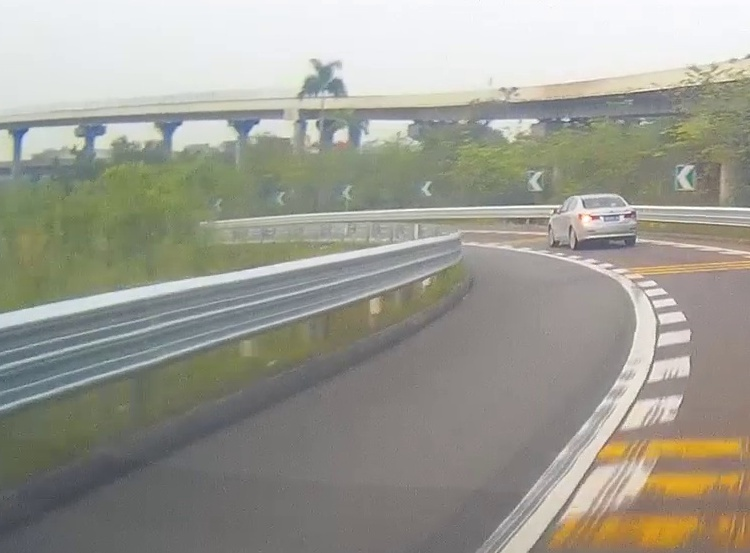L_light: (579, 214, 601, 220)
R_light: (624, 212, 636, 218)
T_light: (598, 196, 609, 198)
day-left: (575, 194, 638, 250)
